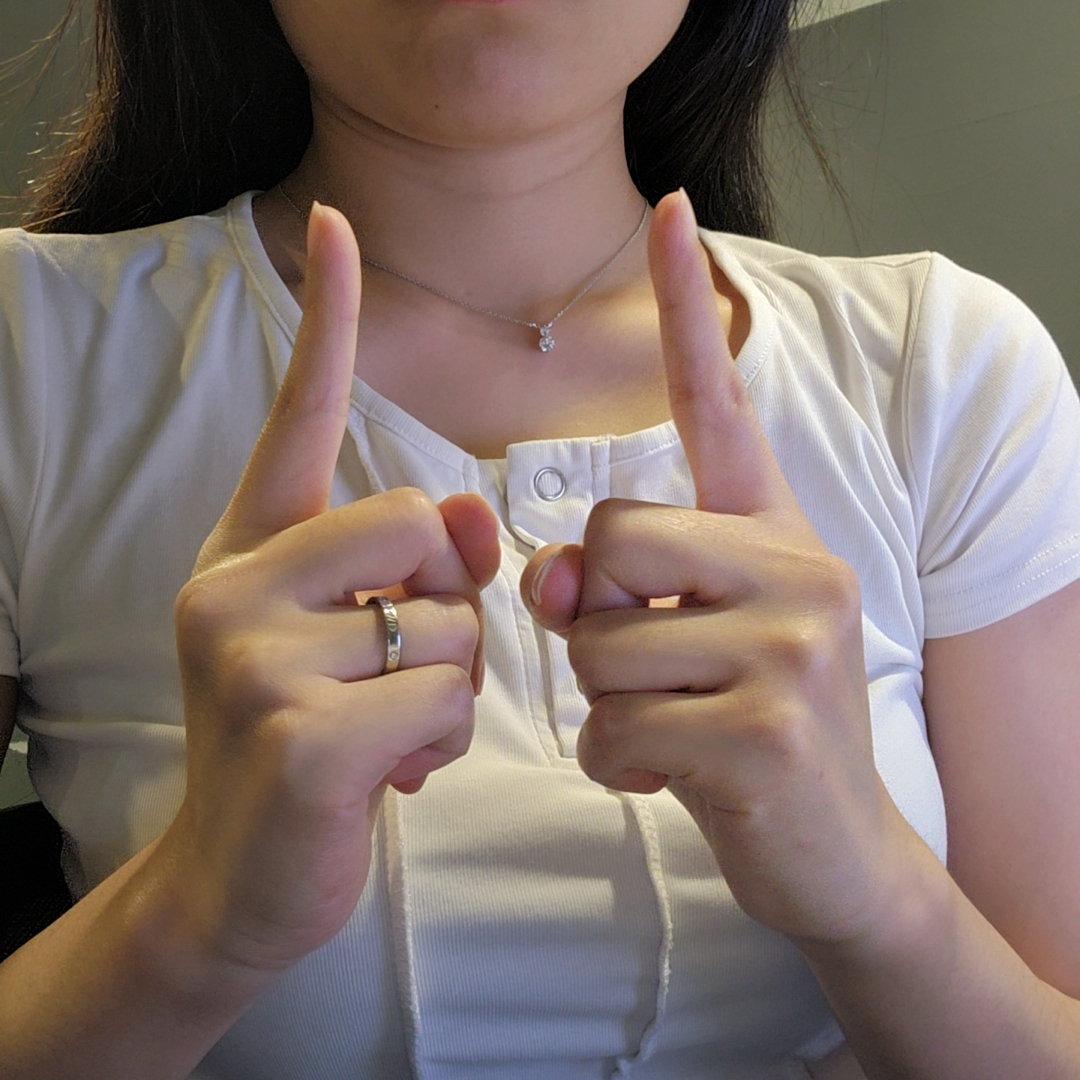meet: (167, 201, 884, 962)
